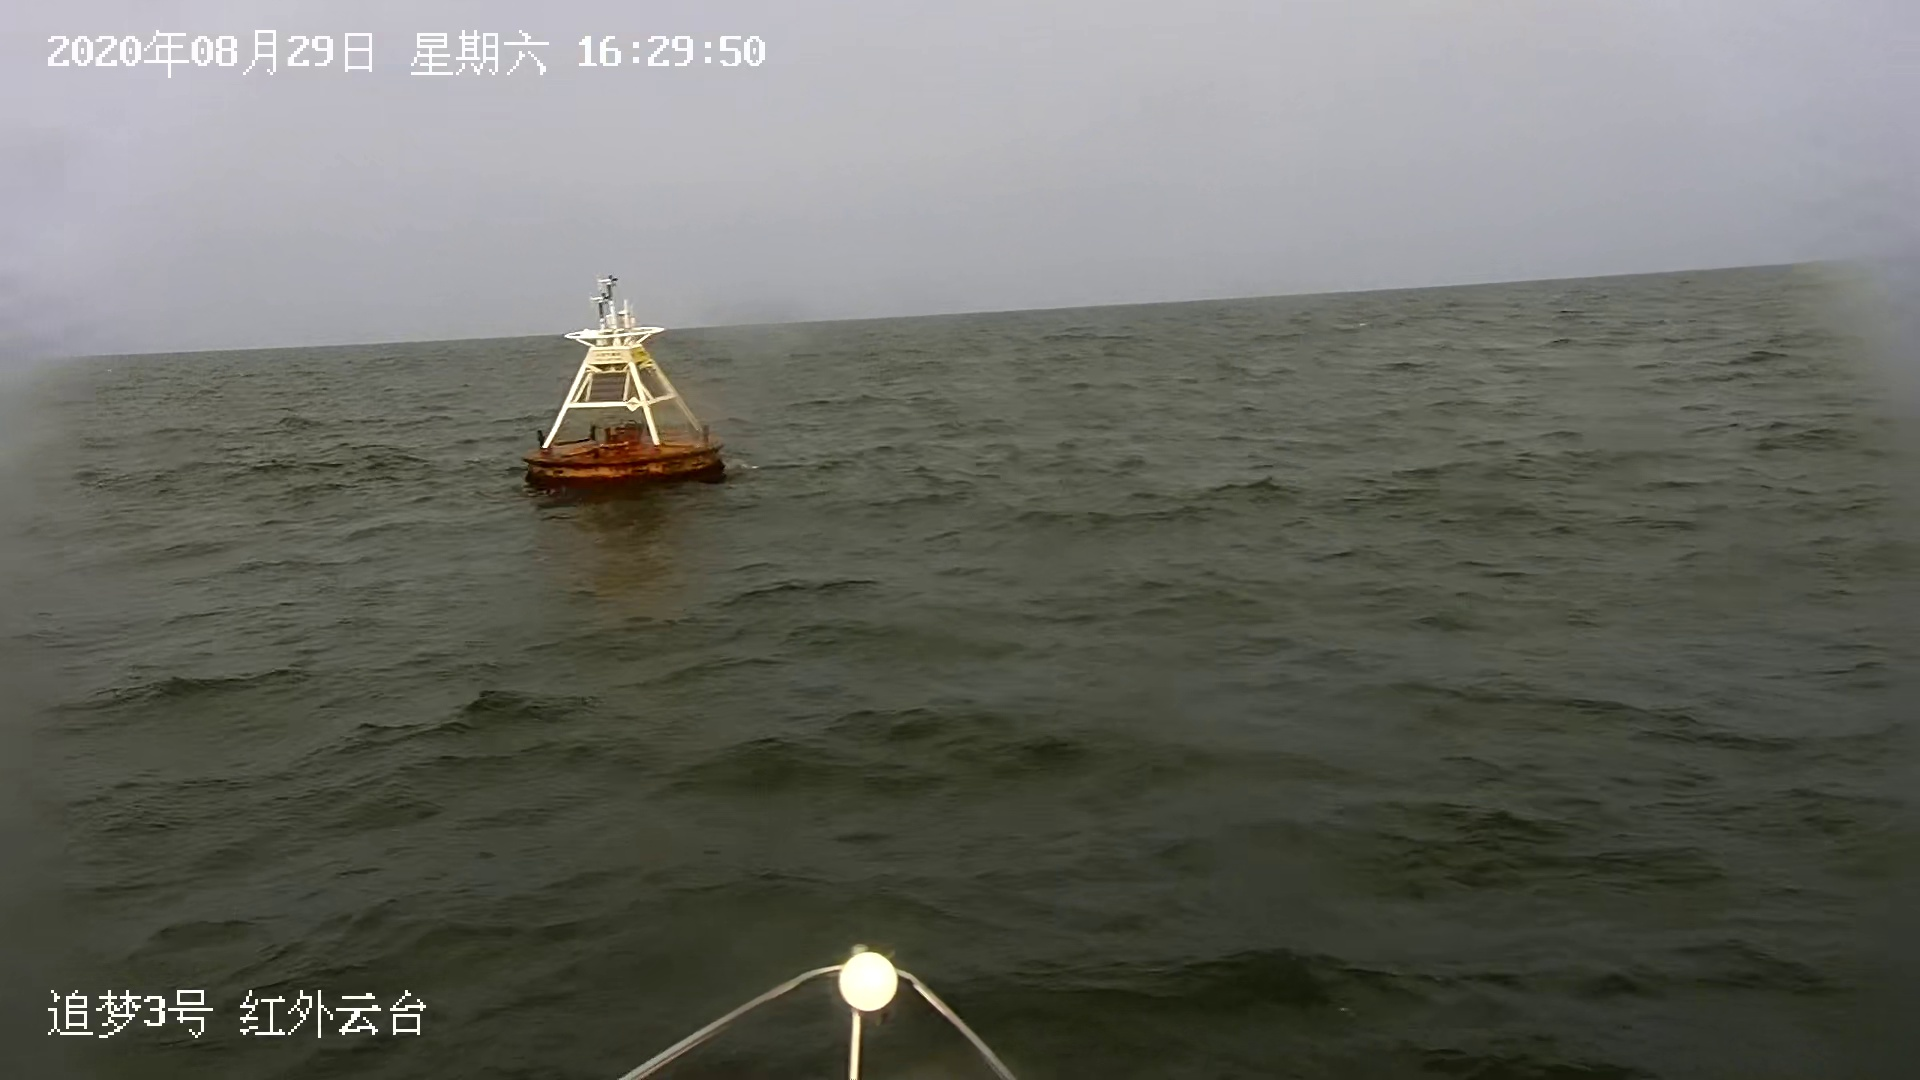barrier: (505, 276, 721, 500)
